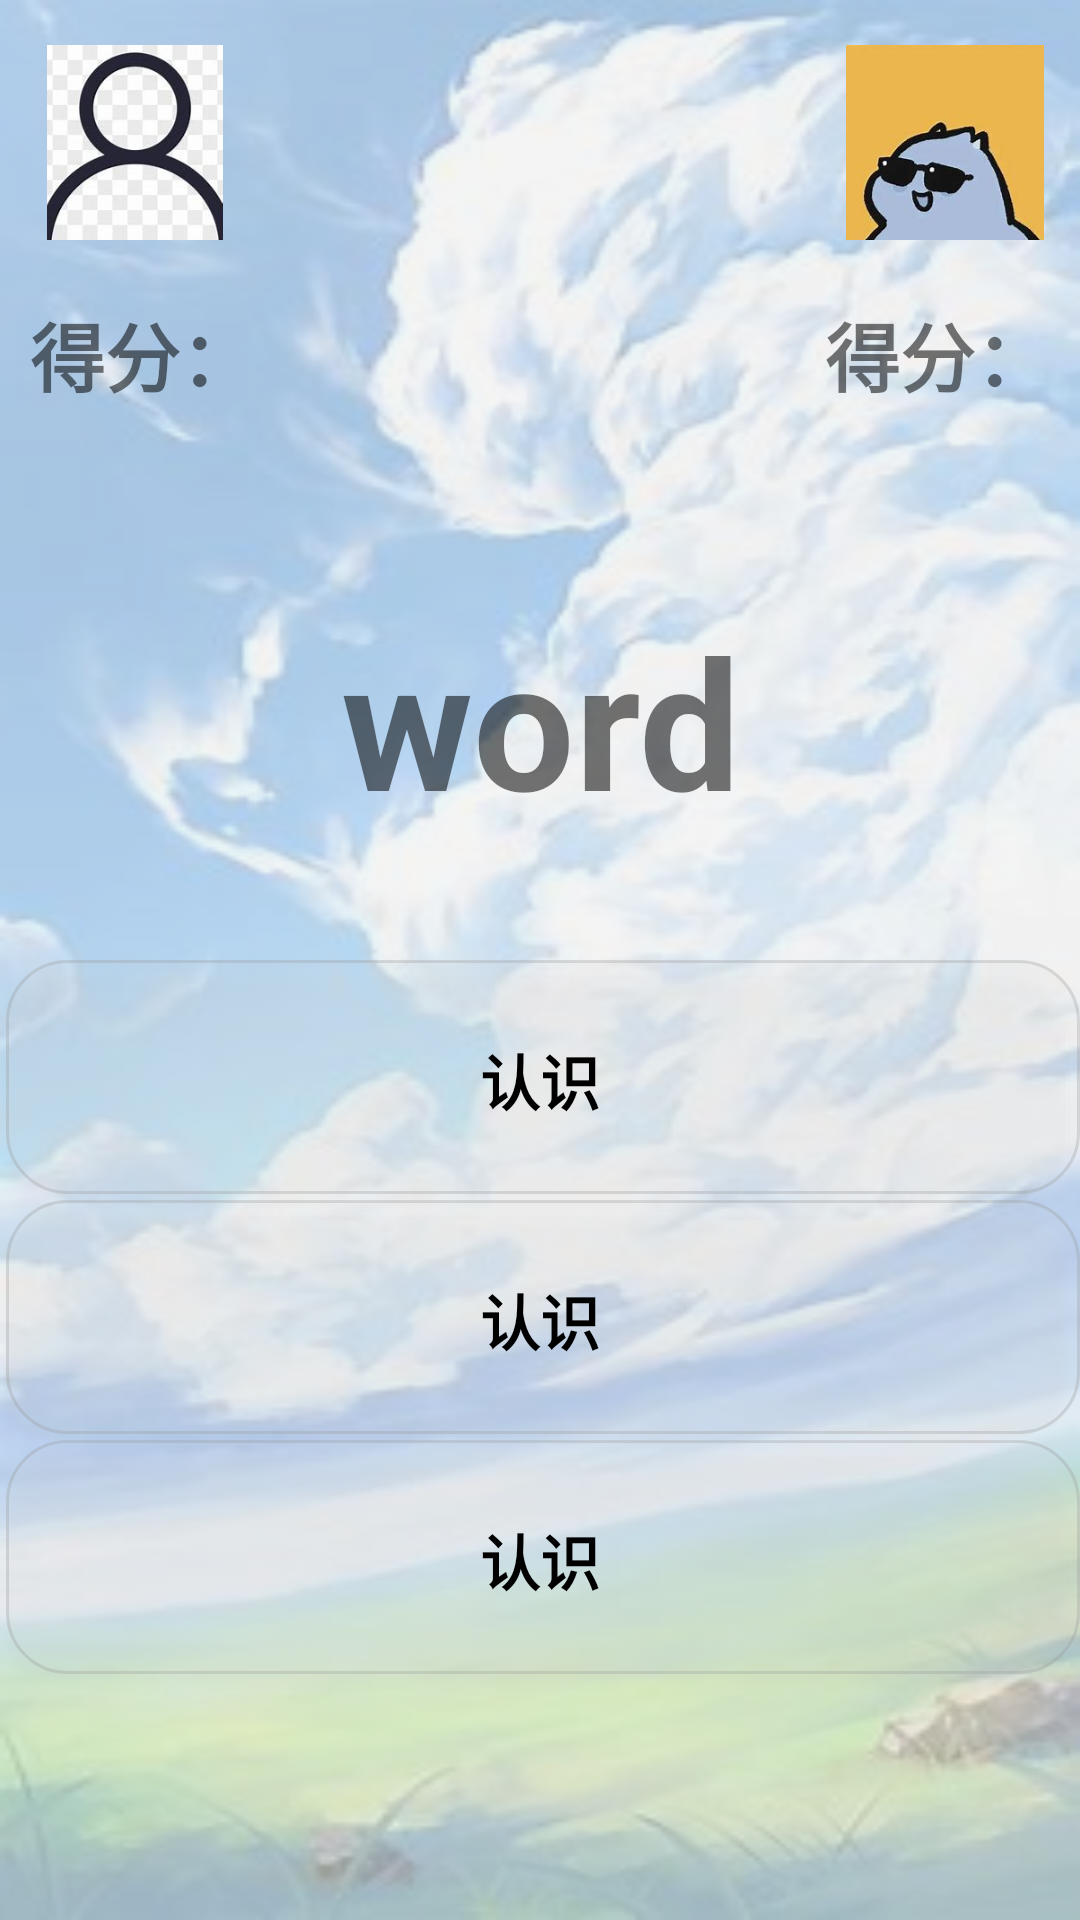

Screen size 1080*1920. Icon name, then its center in pixels as [x,y]:
face: [135,142], [945,142]
